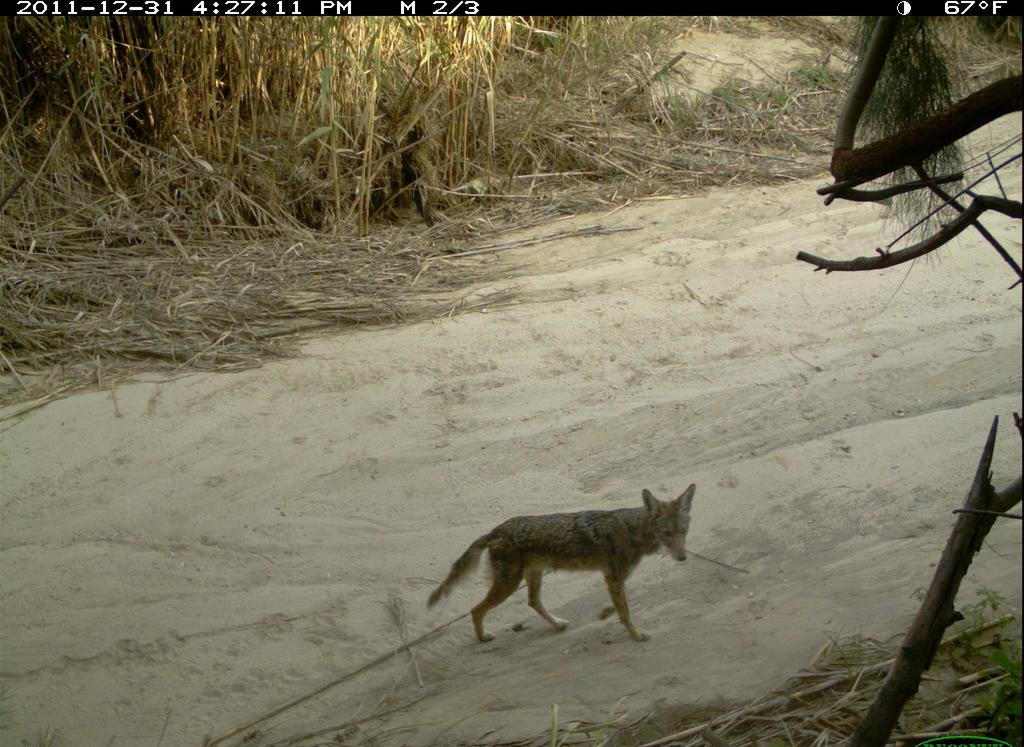coyote: (408, 474, 712, 658)
